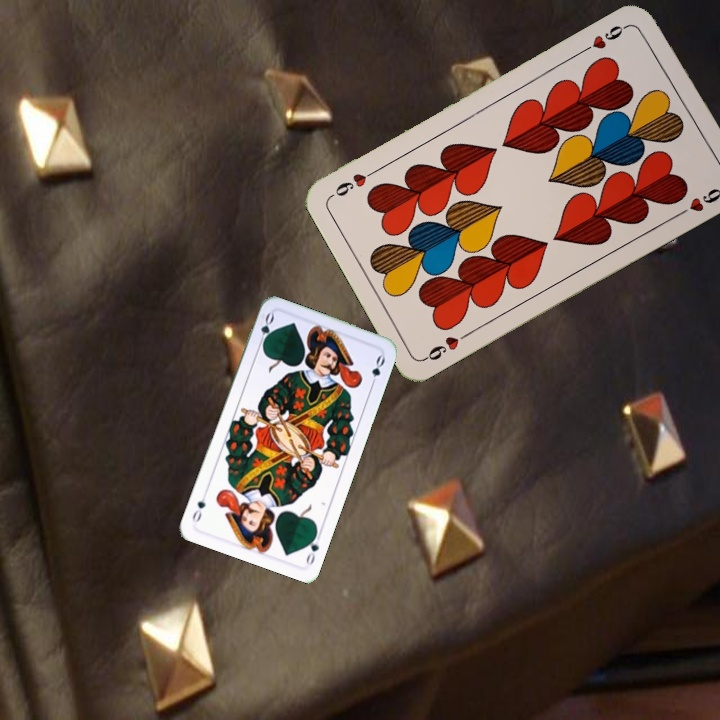GO: (254, 309, 277, 350), (302, 527, 324, 568)
H9: (420, 327, 473, 364), (579, 20, 633, 55)
